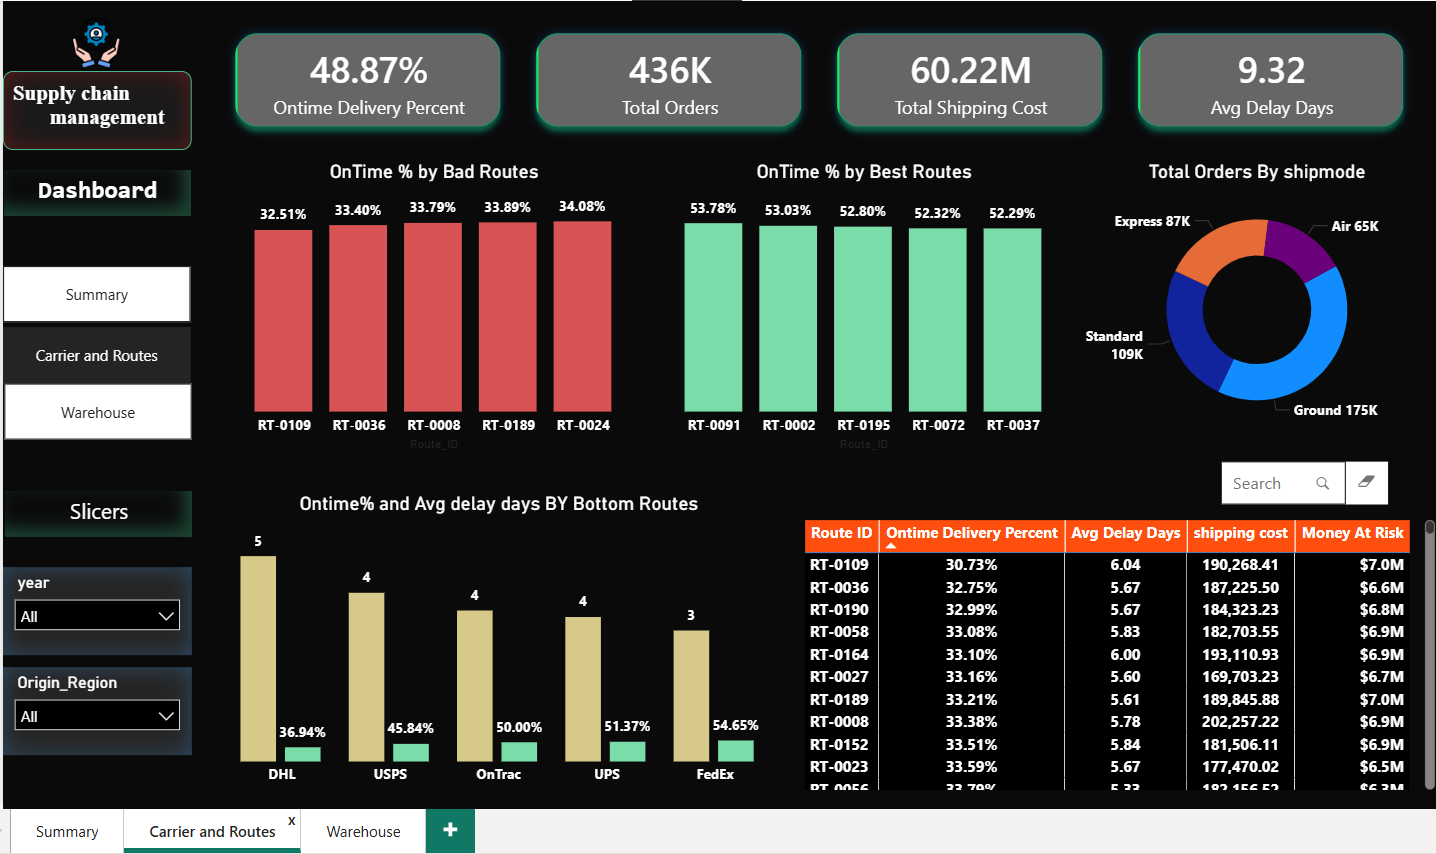

The dashboard page shown, as its layout file describes it:
{"tool":"powerbi","page":{"name":"Carrier and Routes","canvas":[1280,720],"ordinal":1},"visuals":[{"type":"columnChart","title":"OnTime % by Bad Routes","fields":{"Y":["supplychain fact_table.ontime_delivery_percent"],"Category":["dim_routes.Route_ID"]},"box":[192.9,141.4,382.9,264.3],"z":0},{"type":"donutChart","title":"Total Orders By shipmode","fields":{"Category":["dim_carriers.Ship_Mode"],"Y":["supplychain fact_table.Total_orders"]},"box":[954.3,141.4,325.7,248.6],"z":1000},{"type":"clusteredColumnChart","title":"Ontime% and Avg delay days BY Bottom Routes","fields":{"Y":["supplychain fact_table.Avg_dely_with_zero","supplychain fact_table.ontime_delivery_percent"],"Category":["dim_carriers.Carrier"]},"box":[168.6,437.1,547.1,270],"z":2000},{"type":"tableEx","title":"OnTime% By Bottom Products","fields":{"Values":["dim_routes.Route_ID","supplychain fact_table.ontime_delivery_percent","supplychain fact_table.Avg_dely_with_zero","supplychain fact_table.Total_shipping_cost","supplychain fact_table.Money_At_Risk"]},"box":[708.1,457,572.1,250],"z":3000},{"type":"cardVisual","fields":{"Data":["supplychain fact_table.ontime_delivery_percent","supplychain fact_table.Total_orders","supplychain fact_table.Total_shipping_cost","supplychain fact_table.avg_delay_days"]},"box":[178.6,0,1101.4,141.4],"z":4000},{"type":"shape","box":[0,0,168,720],"z":5000},{"type":"textbox","box":[0,61.9,167.9,70.2],"z":6000},{"type":"slicer","fields":{"Values":["dim_calender.year"]},"box":[0,504.8,167.9,78.6],"z":7000},{"type":"pageNavigator","box":[1.2,340.5,167.9,50],"z":8000},{"type":"pageNavigator","box":[0,235.7,167.9,50],"z":9000},{"type":"pageNavigator","box":[0,290.5,167.9,50],"z":10000},{"type":"image","box":[11.9,13.1,141.7,48.8],"z":11000},{"type":"textbox","box":[1.2,150,166.7,40.5],"z":12000},{"type":"slicer","fields":{"Values":["dim_origins.Origin_Region"]},"box":[0,592.9,167.9,78.6],"z":13000},{"type":"textbox","box":[2.4,436.9,166.7,40.5],"z":14000},{"type":"columnChart","title":"OnTime % by Best  Routes","fields":{"Y":["supplychain fact_table.ontime_delivery_percent"],"Category":["dim_routes.Route_ID"]},"box":[575.7,141.4,382.9,264.3],"z":15000},{"type":"textFilter25A4896A83E0487089E2B90C9AE57C8A","fields":{"field":["dim_routes.Route_ID"]},"box":[1079.8,405.2,159.2,50.1],"z":16000}]}

Visuals, with their boxes on the page's 1280x720 design canvas (x1, y1, x2, y2). These are canvas units, not pixel positions in the 1436x854 screenshot, which may show the page scaled, cropped or inside an application window:
"OnTime % by Bad Routes" columnChart: (x1=193, y1=141, x2=576, y2=406)
"Total Orders By shipmode" donutChart: (x1=954, y1=141, x2=1280, y2=390)
"Ontime% and Avg delay days BY Bottom Routes" clusteredColumnChart: (x1=169, y1=437, x2=716, y2=707)
"OnTime% By Bottom Products" tableEx: (x1=708, y1=457, x2=1280, y2=707)
cardVisual - supplychain fact_table.ontime_delivery_percent x supplychain fact_table.Total_orders: (x1=179, y1=0, x2=1280, y2=141)
shape: (x1=0, y1=0, x2=168, y2=720)
textbox: (x1=0, y1=62, x2=168, y2=132)
slicer - dim_calender.year: (x1=0, y1=505, x2=168, y2=583)
pageNavigator: (x1=1, y1=340, x2=169, y2=390)
pageNavigator: (x1=0, y1=236, x2=168, y2=286)
pageNavigator: (x1=0, y1=290, x2=168, y2=340)
image: (x1=12, y1=13, x2=154, y2=62)
textbox: (x1=1, y1=150, x2=168, y2=190)
slicer - dim_origins.Origin_Region: (x1=0, y1=593, x2=168, y2=672)
textbox: (x1=2, y1=437, x2=169, y2=477)
"OnTime % by Best  Routes" columnChart: (x1=576, y1=141, x2=959, y2=406)
textFilter25A4896A83E0487089E2B90C9AE57C8A - dim_routes.Route_ID: (x1=1080, y1=405, x2=1239, y2=455)
